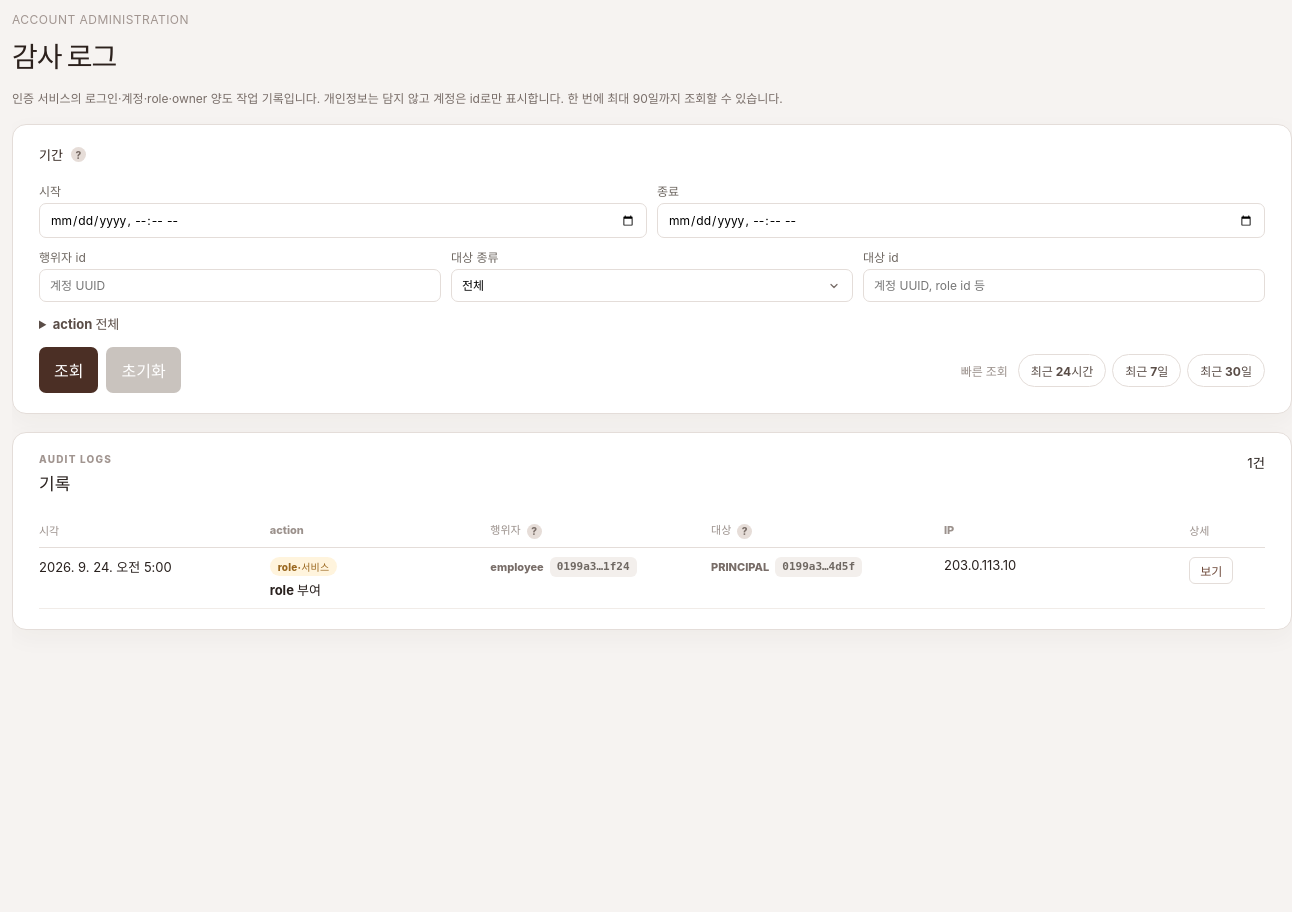
Test: AuditLogsPage › 행위자 머리글의 "?" 배지에 올리면 무엇을 뜻하는지 설명이 뜬다
Hover over the picture named "행위자 설명" at (534, 531), box [527,524,542,538]
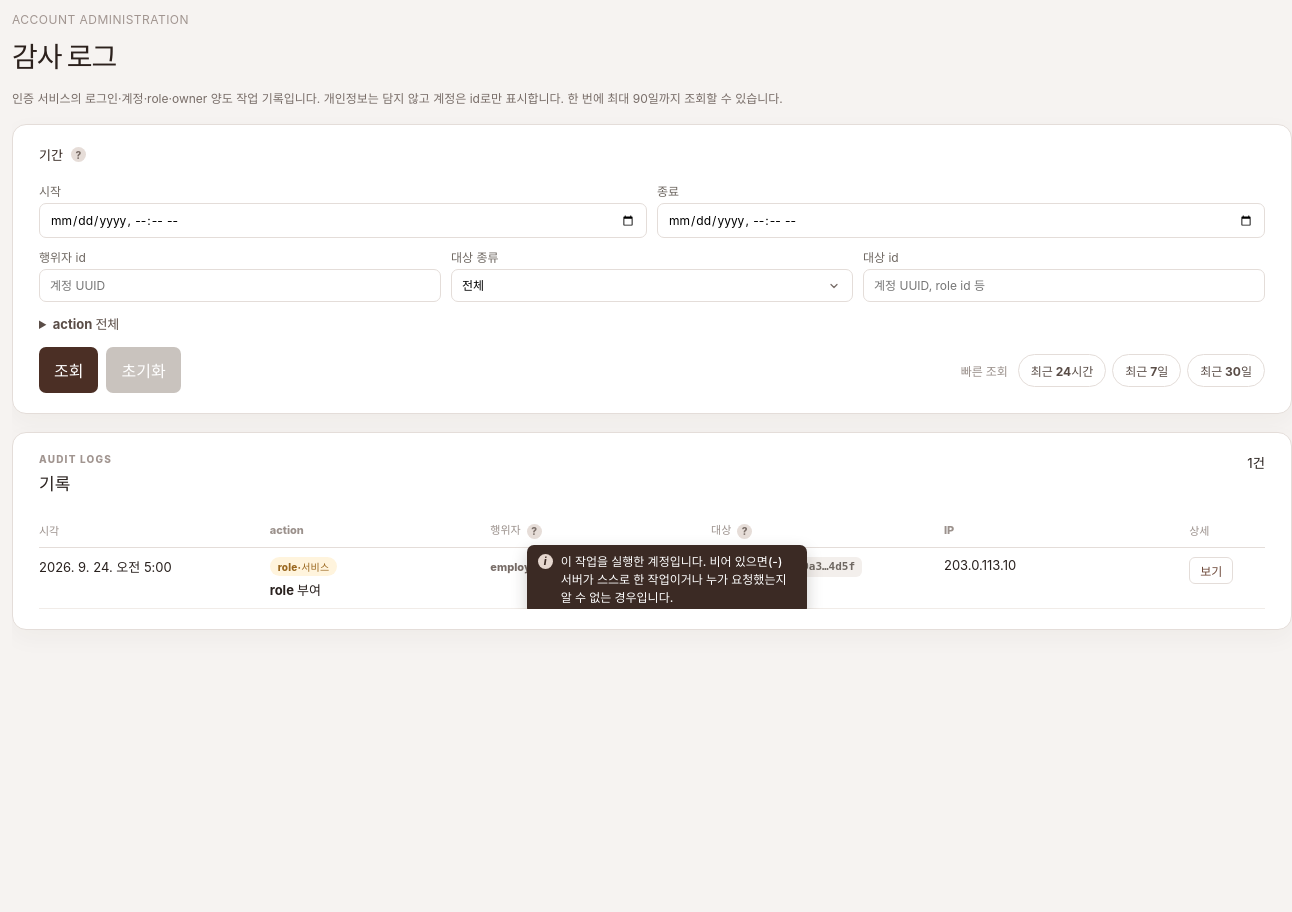
Check: the tooltip shows "이 작업을 실행한 계정입니다.", box [561,554,786,604]
Check: the tooltip shows "비어 있으면(-)", box [561,554,786,604]
